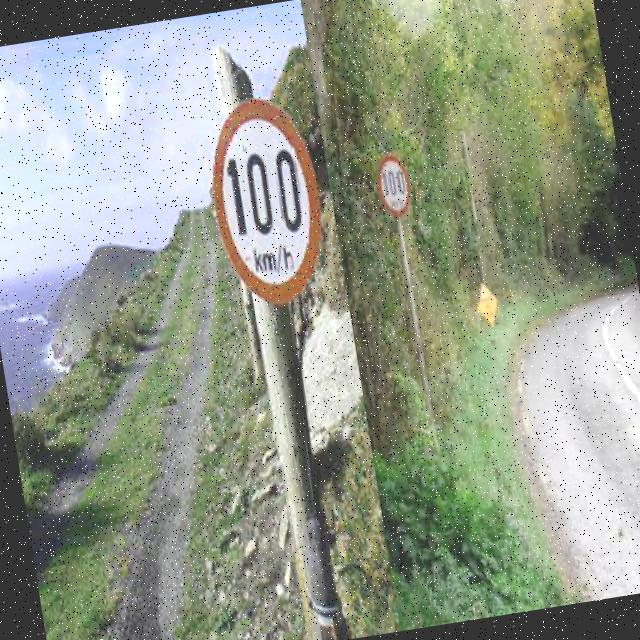Ograniczenie predkosci do 100: (369, 151, 416, 223)
